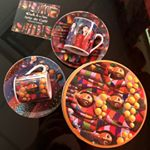cups: (12, 62, 54, 105), (62, 15, 106, 55)
